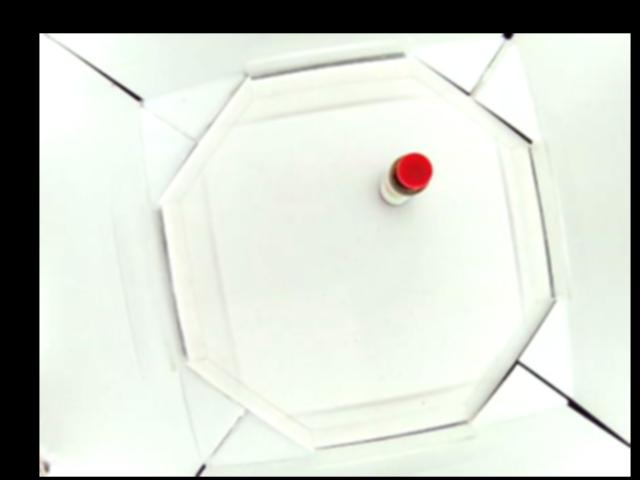Medicine: (376, 152, 433, 206)
